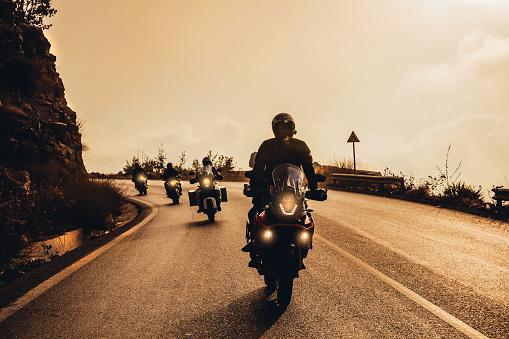motorcycle: (238, 160, 330, 312), (189, 159, 232, 226), (158, 171, 186, 207), (133, 169, 154, 200)
